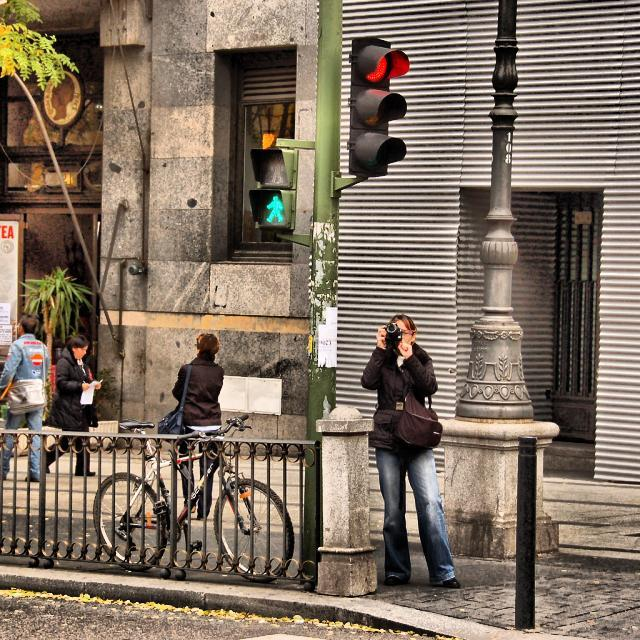green_light: (263, 192, 285, 225)
